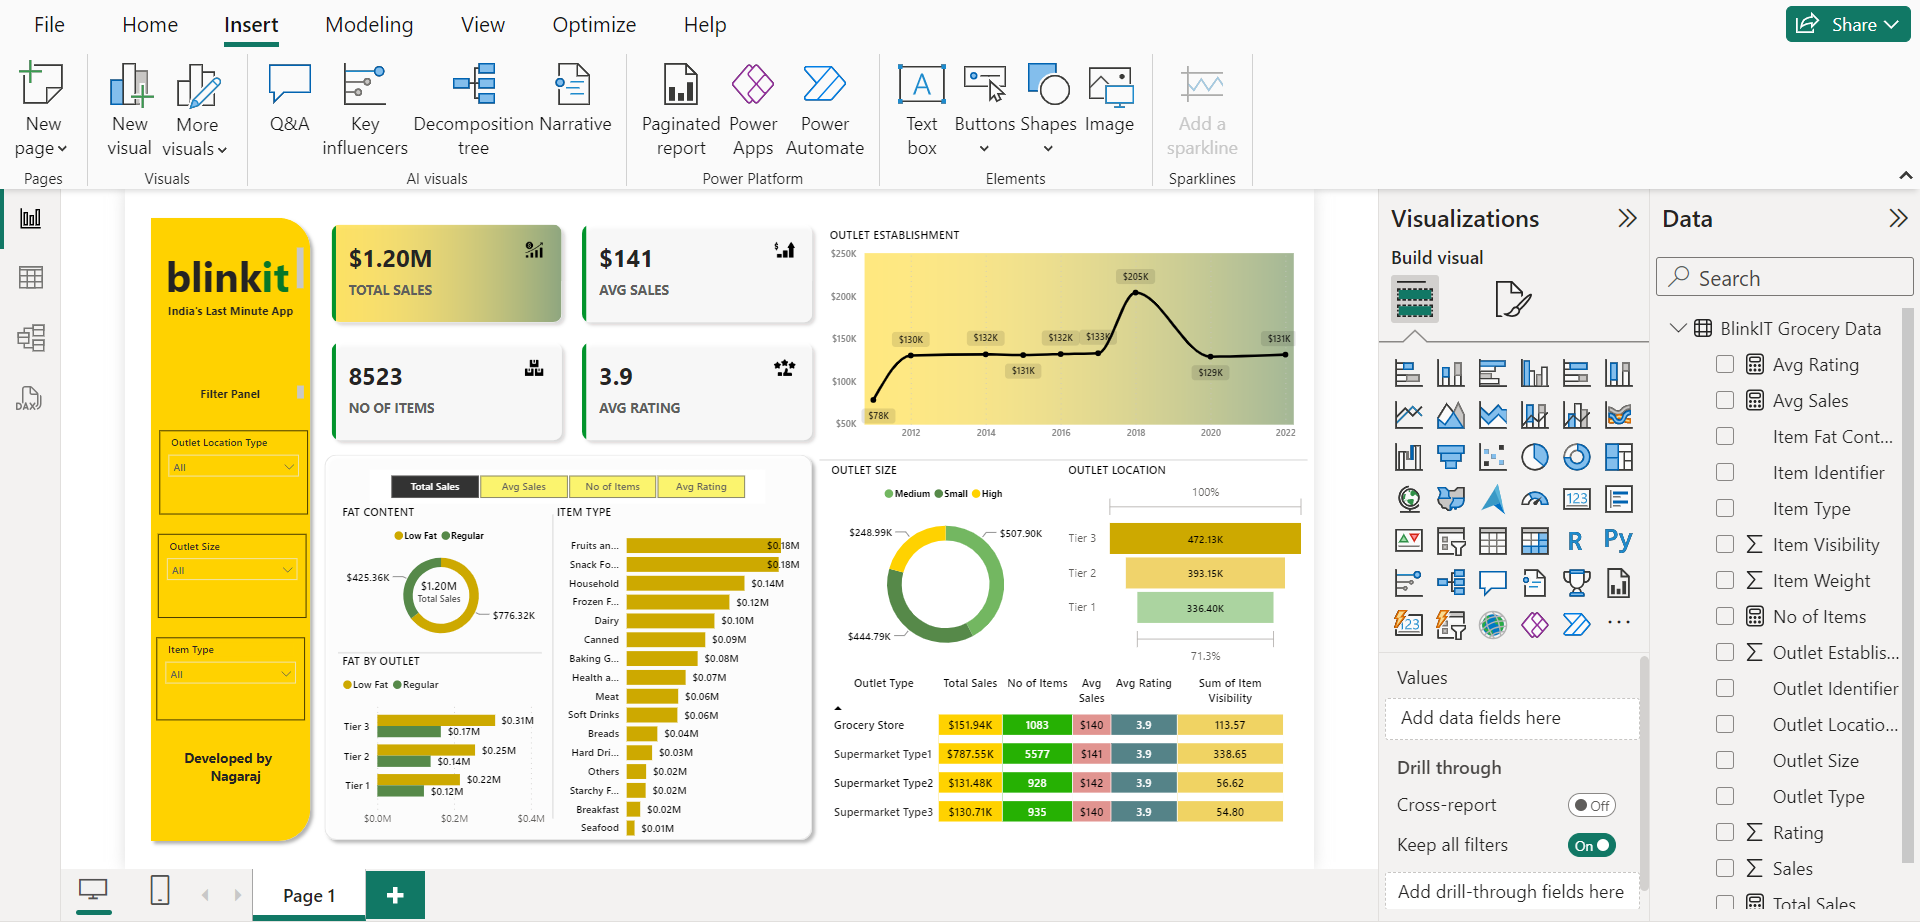

This screenshot's page, from the dashboard's own definition file:
{"tool":"powerbi","page":{"name":"Page 1","canvas":[1400,800],"ordinal":0},"visuals":[{"type":"shape","box":[22,24,206,752],"z":0},{"type":"textbox","box":[275.5,25,205,750],"z":1000},{"type":"textbox","box":[529,25,205,304],"z":2000},{"type":"textbox","box":[33.6,63.6,181.9,65.3],"z":3000},{"type":"textbox","box":[44.2,128.9,160.7,65.3],"z":4000},{"type":"cardVisual","fields":{"Data":["BlinkIT Grocery Data.Total Sales","BlinkIT Grocery Data.Avg Sales","BlinkIT Grocery Data.No of Items","BlinkIT Grocery Data.Avg Rating"]},"box":[226,24,600,288],"z":5000},{"type":"shape","box":[226,303.8,591.6,471.5],"z":6000},{"type":"donutChart","title":"FAT CONTENT","fields":{"Y":["BlinkIT Grocery Data.Total Sales"],"Category":["BlinkIT Grocery Data.Item Fat Content"]},"box":[250,370,242,170],"z":7000},{"type":"slicer","fields":{"Values":["Metrics.Metrics"]},"box":[288,330,466,40],"z":8000},{"type":"cardVisual","fields":{"Data":["BlinkIT Grocery Data.Total Sales"]},"box":[320,440,100,58],"z":9000},{"type":"clusteredBarChart","title":"FAT BY OUTLET","fields":{"Y":["BlinkIT Grocery Data.Total Sales"],"Category":["BlinkIT Grocery Data.Outlet Location Type"],"Series":["BlinkIT Grocery Data.Item Fat Content"]},"box":[250.8,545.7,252.5,213.7],"z":10000},{"type":"shape","box":[250,528,240,36],"z":11000},{"type":"shape","box":[492,384,22,358],"z":12000},{"type":"barChart","title":"ITEM TYPE","fields":{"Y":["BlinkIT Grocery Data.Total Sales"],"Category":["BlinkIT Grocery Data.Item Type"]},"box":[504,370,296,404],"z":13000},{"type":"lineChart","title":"OUTLET ESTABLISHMENT","fields":{"Y":["BlinkIT Grocery Data.Total Sales"],"Category":["BlinkIT Grocery Data.Outlet Establishment Year"]},"box":[825.5,43.6,558.2,260],"z":14000},{"type":"shape","box":[818.2,310.9,574.5,16.4],"z":15000},{"type":"donutChart","title":"OUTLET SIZE","fields":{"Y":["BlinkIT Grocery Data.Total Sales"],"Category":["BlinkIT Grocery Data.Outlet Size"]},"box":[826,320.8,278.7,242.6],"z":16000},{"type":"funnel","title":"OUTLET LOCATION","fields":{"Y":["Sum(BlinkIT Grocery Data.Sales)"],"Category":["BlinkIT Grocery Data.Outlet Location Type"]},"box":[1104.6,320.8,288.7,242.6],"z":17000},{"type":"pivotTable","fields":{"Rows":["BlinkIT Grocery Data.Outlet Type"],"Values":["BlinkIT Grocery Data.Total Sales","BlinkIT Grocery Data.No of Items","BlinkIT Grocery Data.Avg Sales","BlinkIT Grocery Data.Avg Rating","Sum(BlinkIT Grocery Data.Item Visibility)"]},"box":[824,563.3,577.4,212.5],"z":18000},{"type":"slicer","fields":{"Values":["BlinkIT Grocery Data.Outlet Location Type"]},"box":[40.6,284.3,174.8,98.9],"z":19000},{"type":"slicer","fields":{"Values":["BlinkIT Grocery Data.Outlet Size"]},"box":[38.9,406.2,174.8,98.9],"z":20000},{"type":"slicer","fields":{"Values":["BlinkIT Grocery Data.Item Type"]},"box":[37.1,528,174.8,97.1],"z":21000},{"type":"textbox","box":[40.6,226,174.8,33.6],"z":22000},{"type":"textbox","box":[33.6,653.4,148.3,81.2],"z":23000}]}

Visuals, with their boxes on the page's 1400x800 design canvas (x1, y1, x2, y2). These are canvas units, not pixel positions in the 1920x922 screenshot, which may show the page scaled, cropped or inside an application window:
shape: box=[22, 24, 228, 776]
textbox: box=[276, 25, 480, 775]
textbox: box=[529, 25, 734, 329]
textbox: box=[34, 64, 216, 129]
textbox: box=[44, 129, 205, 194]
cardVisual - BlinkIT Grocery Data.Total Sales x BlinkIT Grocery Data.Avg Sales: box=[226, 24, 826, 312]
shape: box=[226, 304, 818, 775]
"FAT CONTENT" donutChart: box=[250, 370, 492, 540]
slicer - Metrics.Metrics: box=[288, 330, 754, 370]
cardVisual - BlinkIT Grocery Data.Total Sales: box=[320, 440, 420, 498]
"FAT BY OUTLET" clusteredBarChart: box=[251, 546, 503, 759]
shape: box=[250, 528, 490, 564]
shape: box=[492, 384, 514, 742]
"ITEM TYPE" barChart: box=[504, 370, 800, 774]
"OUTLET ESTABLISHMENT" lineChart: box=[826, 44, 1384, 304]
shape: box=[818, 311, 1393, 327]
"OUTLET SIZE" donutChart: box=[826, 321, 1105, 563]
"OUTLET LOCATION" funnel: box=[1105, 321, 1393, 563]
pivotTable - BlinkIT Grocery Data.Outlet Type x BlinkIT Grocery Data.Total Sales: box=[824, 563, 1401, 776]
slicer - BlinkIT Grocery Data.Outlet Location Type: box=[41, 284, 215, 383]
slicer - BlinkIT Grocery Data.Outlet Size: box=[39, 406, 214, 505]
slicer - BlinkIT Grocery Data.Item Type: box=[37, 528, 212, 625]
textbox: box=[41, 226, 215, 260]
textbox: box=[34, 653, 182, 735]
